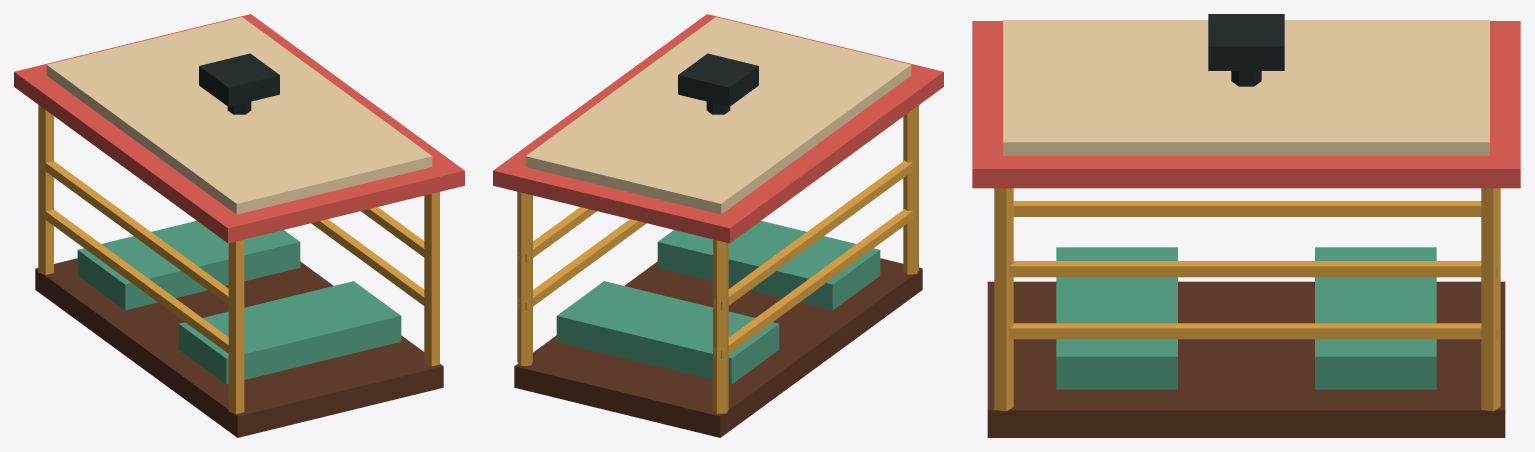
File: ParkParkSkyCar.obj
3 views of the same model, side by side, from view 1: azimuth 30°, elevation 25°; view 2: azimuth 150°, elevation 25°; view 3: azimuth 270°, elevation 25° (orthographic). The views are drawn at different scales.
Parts seen in each view (by area): view 1: ParkParkSkyCar; view 2: ParkParkSkyCar; view 3: ParkParkSkyCar.
Part boxes in pixels (<box>): ParkParkSkyCar: <box>14,14,464,437</box>; ParkParkSkyCar: <box>493,14,943,437</box>; ParkParkSkyCar: <box>972,14,1520,437</box>.
Size of the model in its own units: 2.3 by 2.49 by 3.6.
